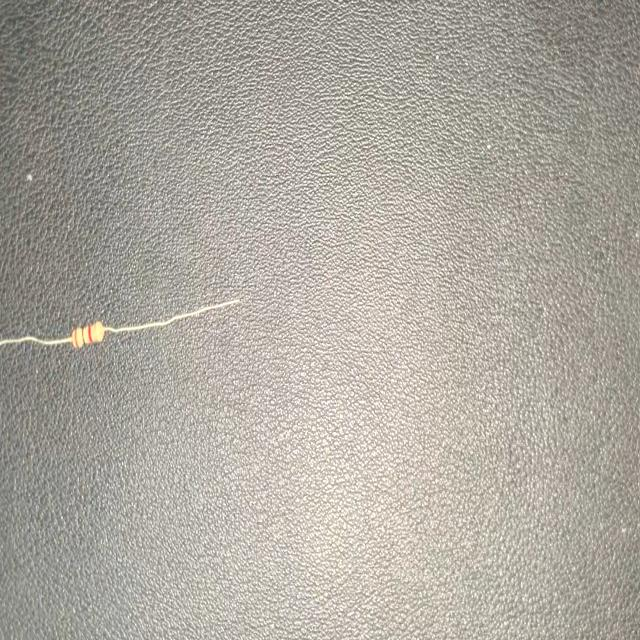resistor: (0, 277, 245, 366)
